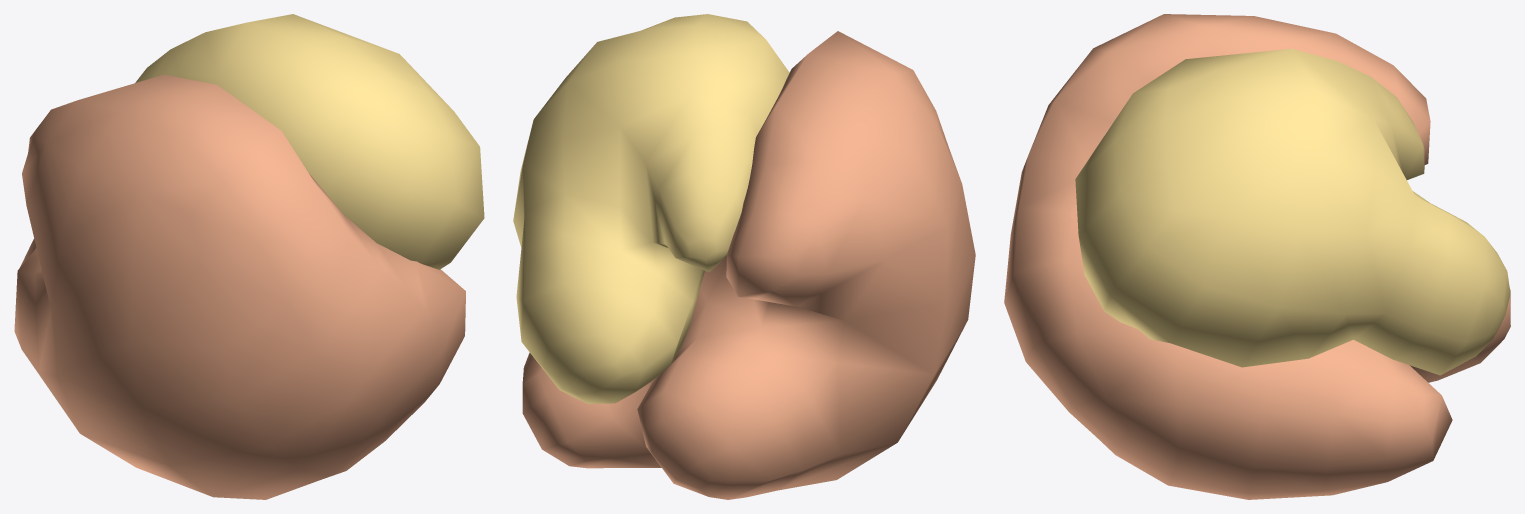
The model's file is free_ribosome.fbx.
The picture shows the model from 3 angles, left to right: view 1: azimuth 30°, elevation 25°; view 2: azimuth 150°, elevation 25°; view 3: azimuth 270°, elevation 25°; orthographic projection. The views are drawn at different scales.
Visible parts, largest first — view 1: Ribosome_1; view 2: Ribosome_1; view 3: Ribosome_1.
Part boxes in pixels (x1,y1,x2,y2): Ribosome_1: [14, 14, 484, 499]; Ribosome_1: [513, 14, 975, 499]; Ribosome_1: [1004, 14, 1510, 499].
Bounding box in the file's own units: 18.24 × 18.56 × 19.14.
